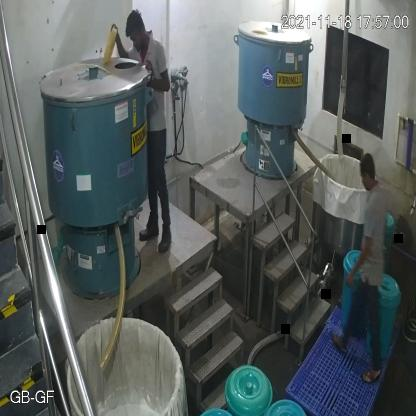no_shoes: (362, 368, 381, 386)
